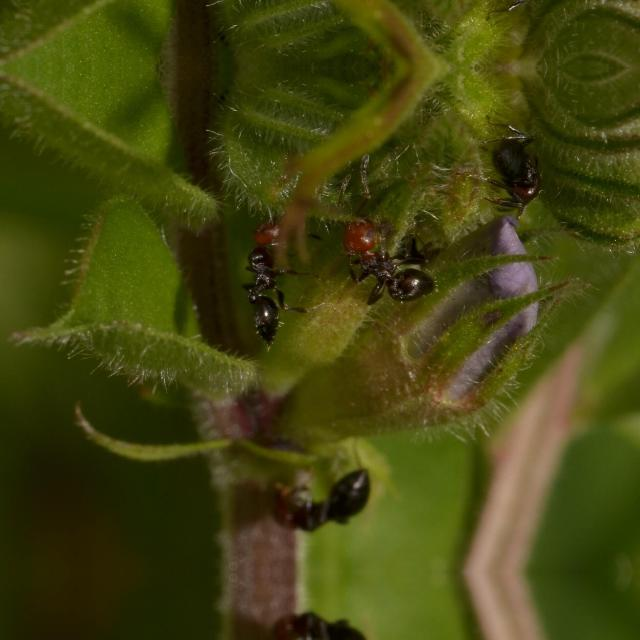Crematogaster: (334, 207, 441, 306), (269, 446, 371, 544), (224, 215, 296, 343), (485, 124, 555, 194), (269, 598, 371, 640)
